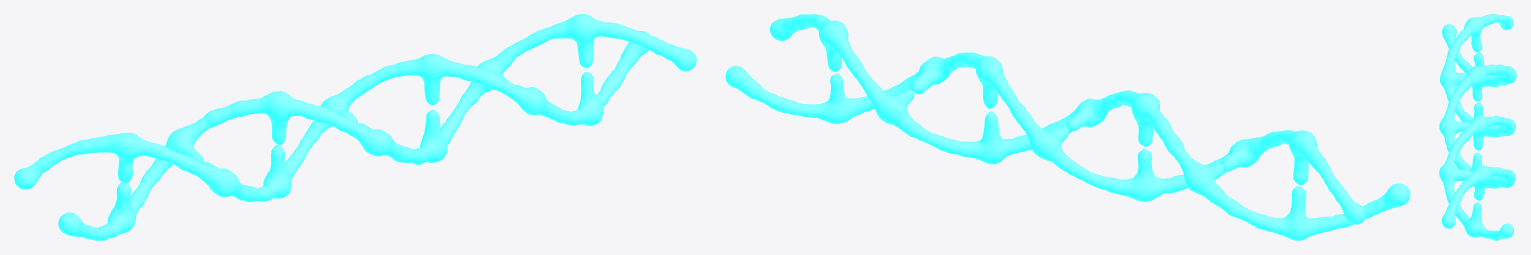
The model's file is DNA_3.glb.
The picture shows the model from 3 angles, left to right: view 1: azimuth 30°, elevation 25°; view 2: azimuth 150°, elevation 25°; view 3: azimuth 270°, elevation 25°; orthographic projection. The views are drawn at different scales.
Parts seen in each view (by area): view 1: 融球; view 2: 融球; view 3: 融球.
Part boxes in pixels (x1=…): 融球: x1=14, y1=14, x2=696, y2=240; 融球: x1=725, y1=14, x2=1410, y2=240; 融球: x1=1439, y1=14, x2=1516, y2=240.
Size of the model in its own units: 412 by 65.69 by 66.02.
